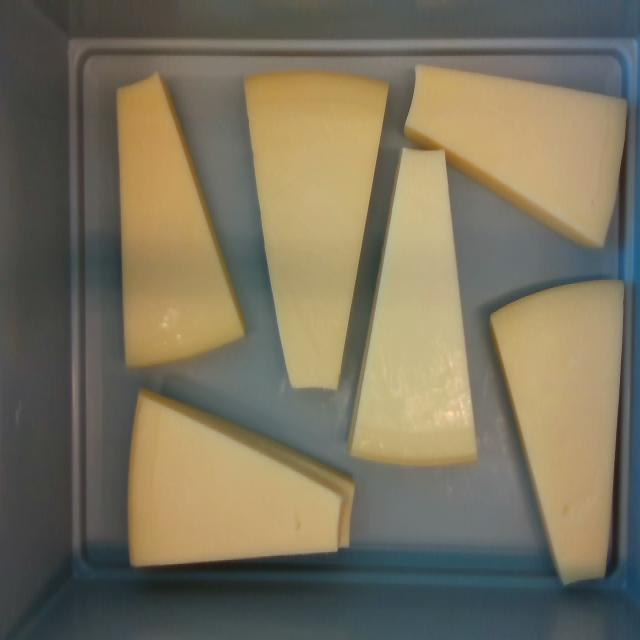cheese: (247, 75, 386, 388), (491, 280, 623, 581), (351, 149, 477, 464), (406, 67, 626, 245), (129, 391, 352, 564), (119, 75, 243, 367)
